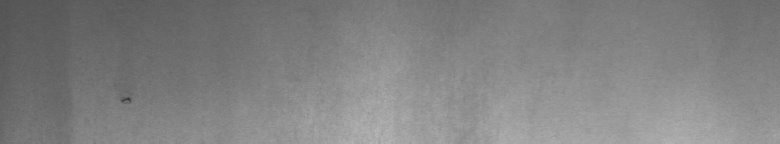fi: (120, 93, 133, 108)
